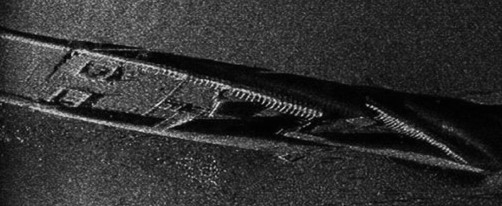ship: (1, 30, 487, 179)
